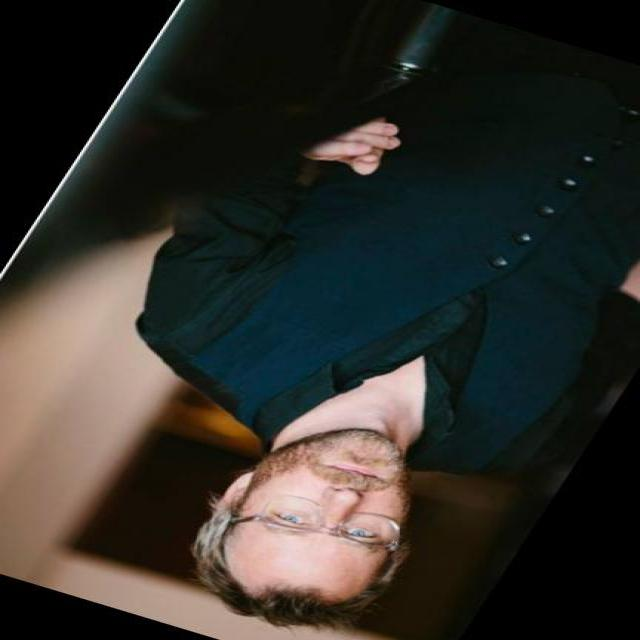glasses: (231, 481, 412, 573)
